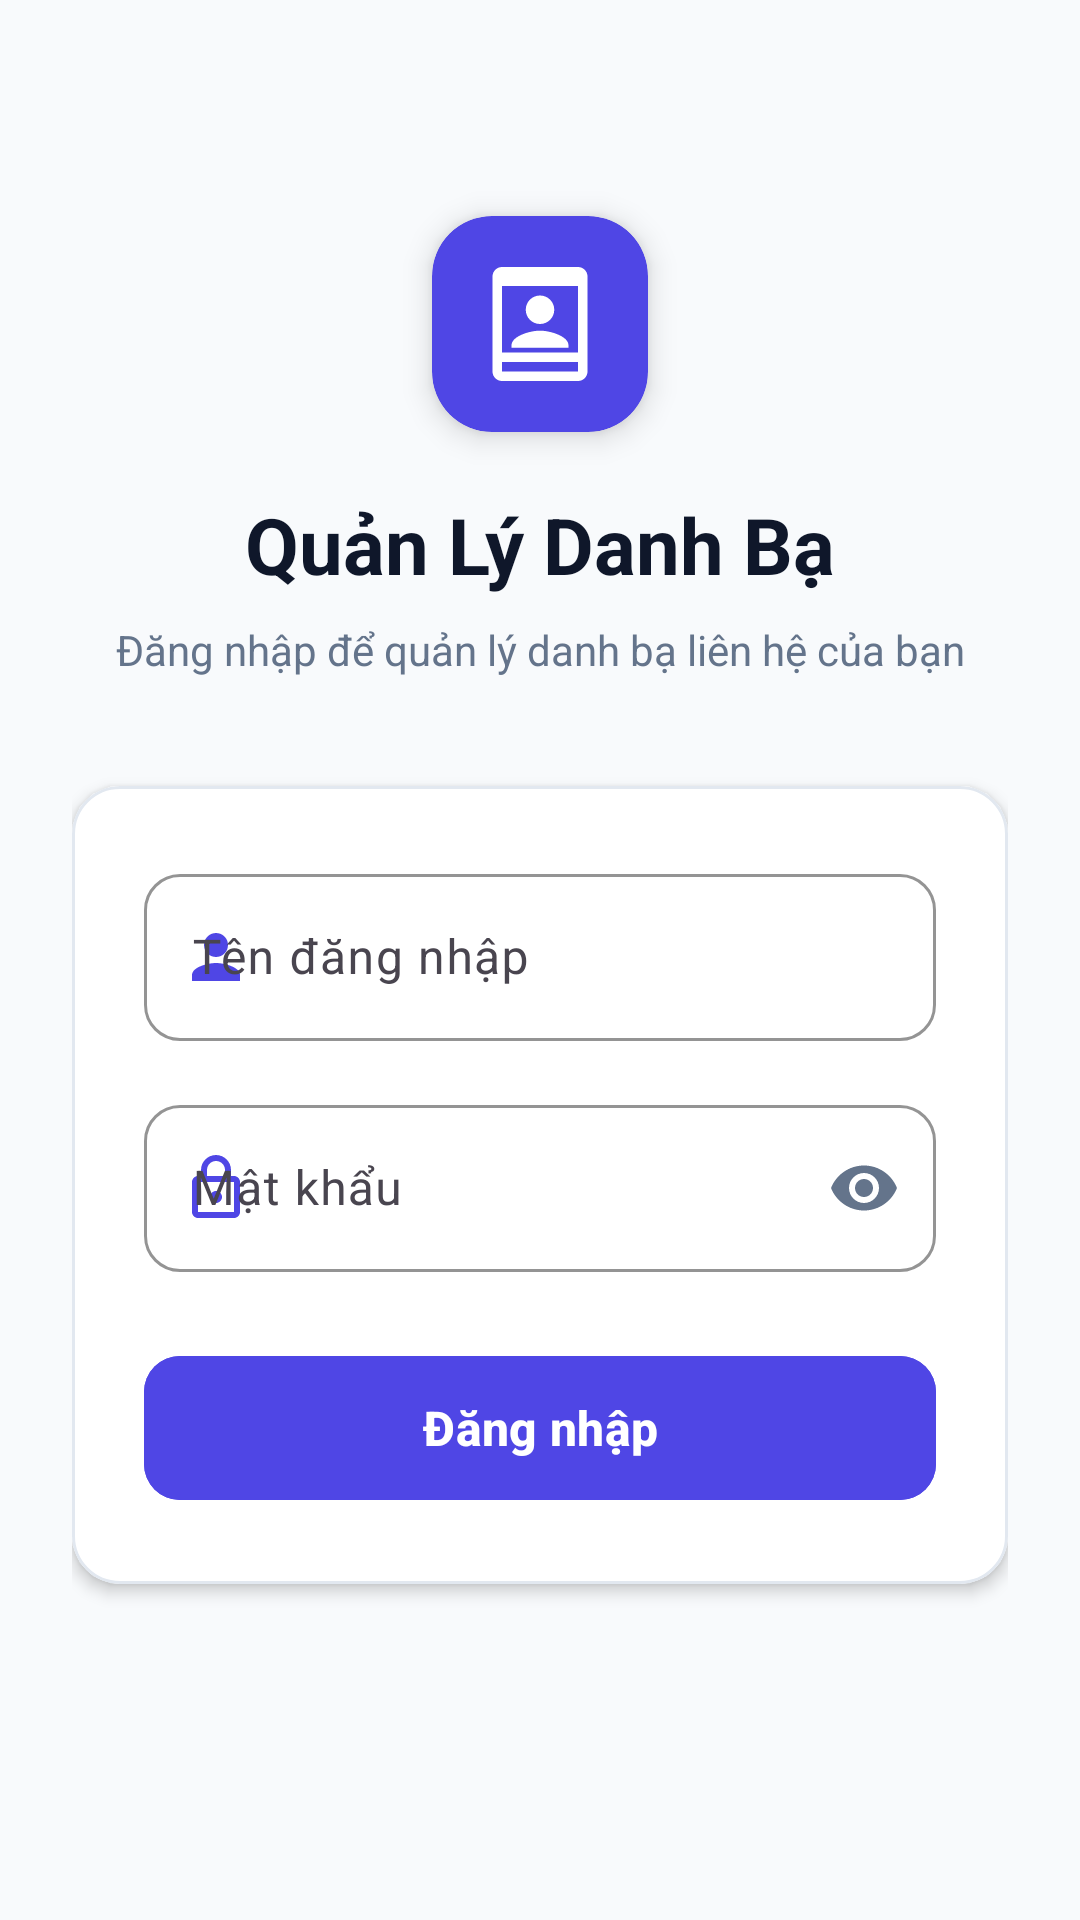

Named icons in this screenshot (1080 × 1920) and their centers, [x,y]:
contacts: [540,324]
